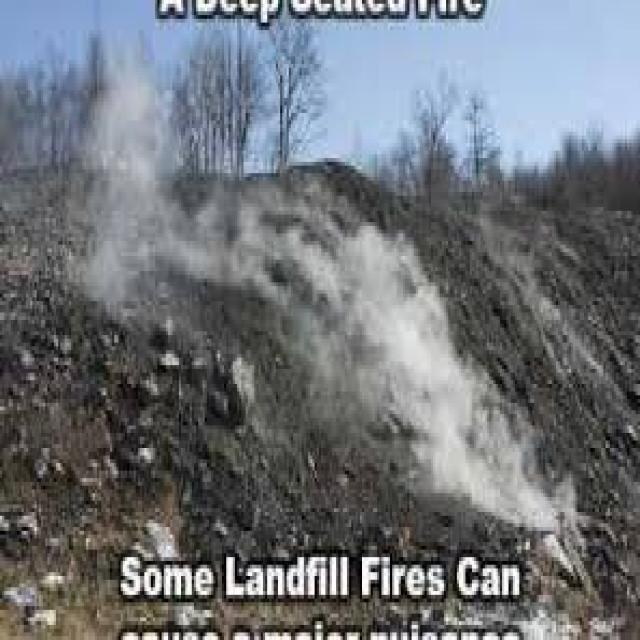Smoke: (186, 164, 420, 436), (418, 280, 580, 548), (68, 49, 184, 320)
